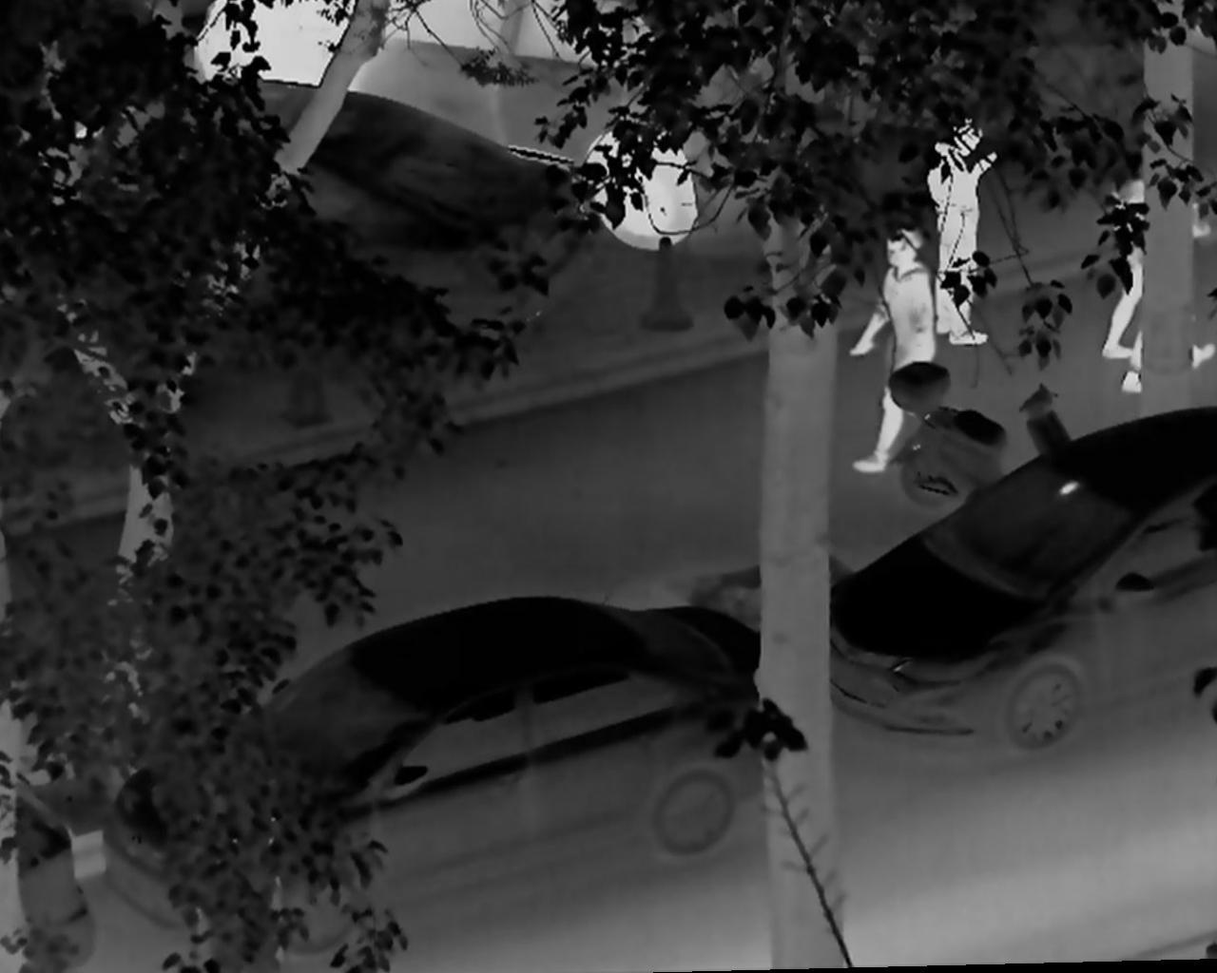person: (845, 226, 936, 480), (1119, 196, 1217, 401), (928, 119, 999, 352), (1094, 140, 1164, 365)
